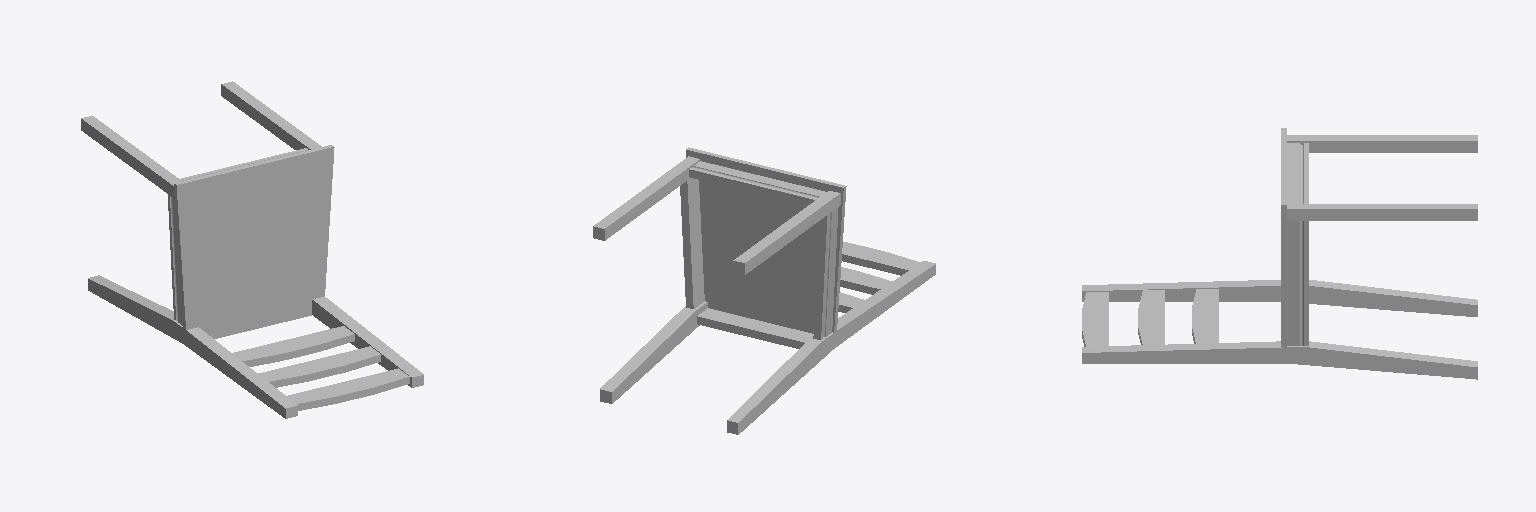
File: JokkmokkChair.obj
The picture shows the model from 3 angles: view 1: azimuth 30°, elevation 25°; view 2: azimuth 150°, elevation 25°; view 3: azimuth 270°, elevation 25°; orthographic projection.
Visible parts, largest first — view 1: JokkmokkChair_SM_JokkmokkChair; view 2: JokkmokkChair_SM_JokkmokkChair; view 3: JokkmokkChair_SM_JokkmokkChair.
Part boxes in pixels (bbox=[...]): JokkmokkChair_SM_JokkmokkChair: bbox=[81, 81, 423, 418]; JokkmokkChair_SM_JokkmokkChair: bbox=[593, 147, 935, 434]; JokkmokkChair_SM_JokkmokkChair: bbox=[1082, 128, 1477, 379].
Bounding box in the file's own units: 0.4738 × 0.5142 × 1.03.